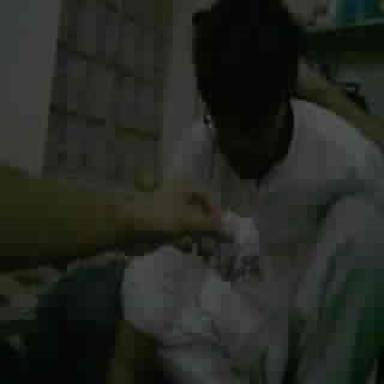paper: (200, 211, 259, 280)
